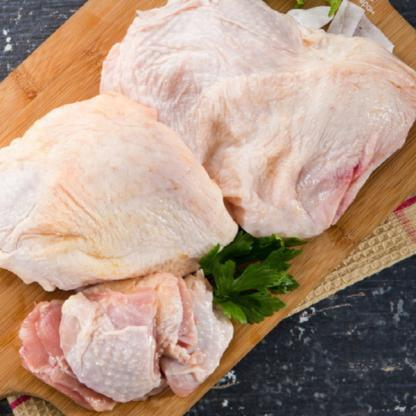chicken: (93, 9, 395, 248), (0, 97, 238, 274), (20, 278, 244, 414)
